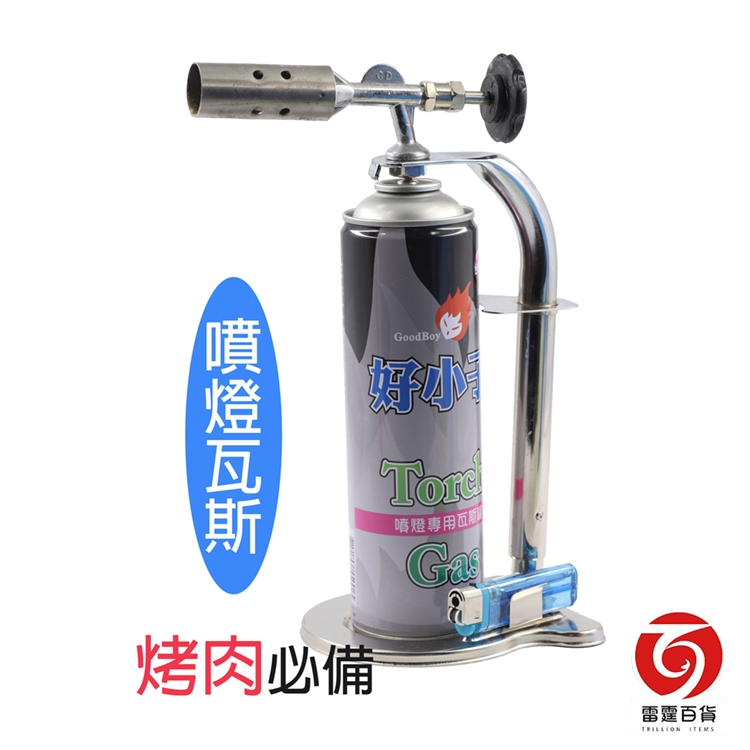gastorch: (178, 44, 613, 669)
